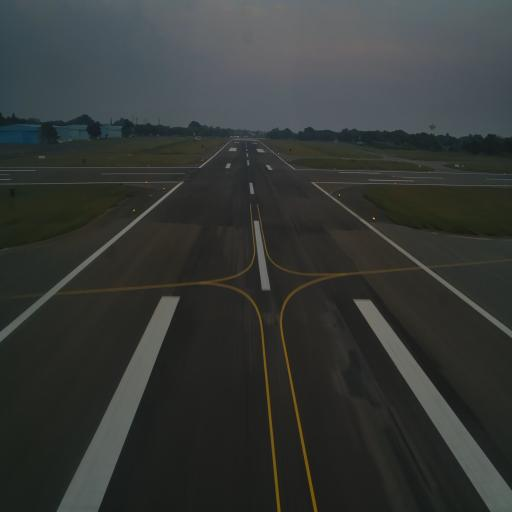on: (131, 205, 137, 217), (371, 211, 376, 223), (338, 191, 342, 198), (162, 186, 166, 191)
